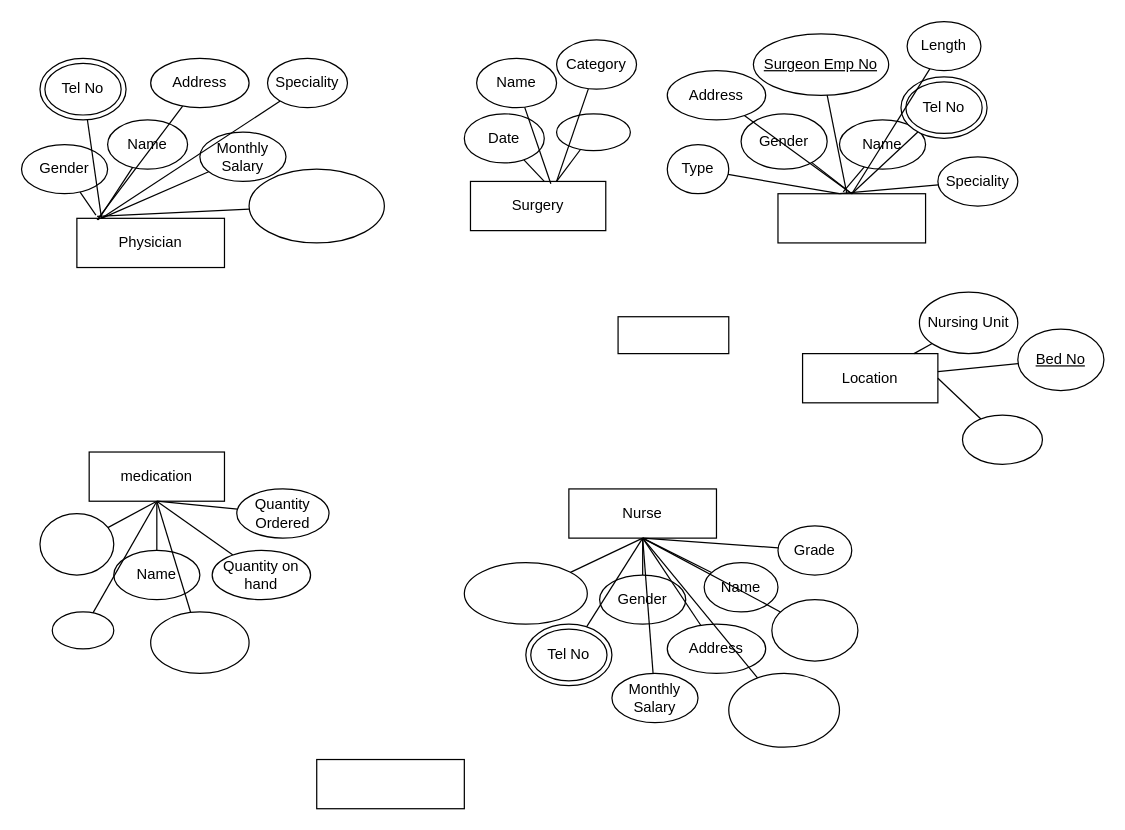
Image size: 1125x830. Some labels were removed from this diagram. Each missing label, with the centre of its shape:
"Code" goes at (x=76, y=543).
"Contract" goes at (x=673, y=334).
"Cost" goes at (x=82, y=630).
"Exp. Date" goes at (x=199, y=642).
"Nurse Emp No" goes at (x=525, y=592).
"Patient" goes at (x=389, y=783).
"Physician Emp No" goes at (x=316, y=205).
"Room No" goes at (x=1001, y=439).
"Surgeon" goes at (x=851, y=217).
"Surgery Skill type" goes at (x=783, y=709).
"Time" goes at (x=592, y=132).
"Yrs Of Exp" goes at (x=814, y=629).
